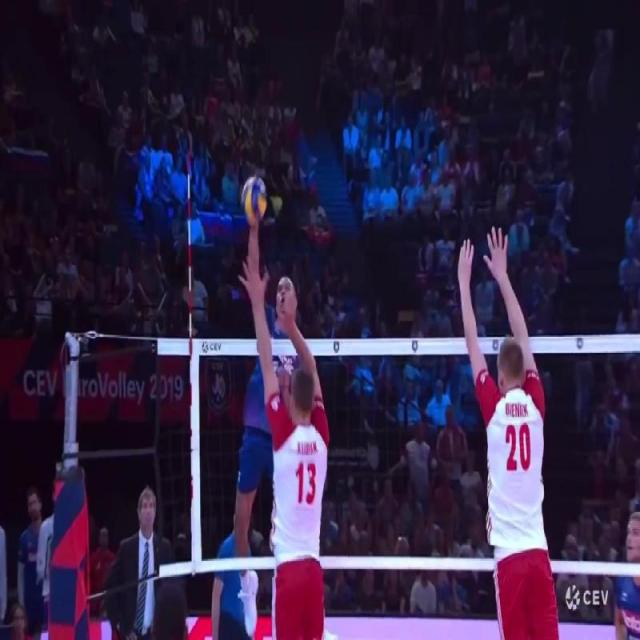volleyball: (239, 176, 266, 226)
